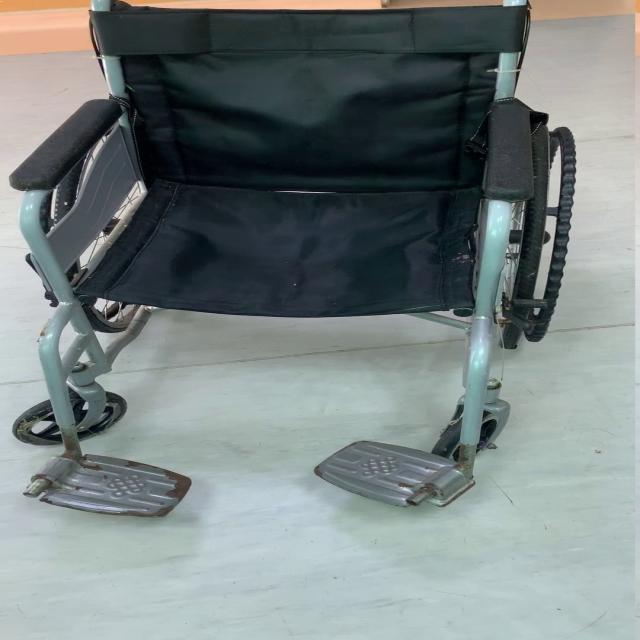wheelchair: (10, 5, 640, 526)
